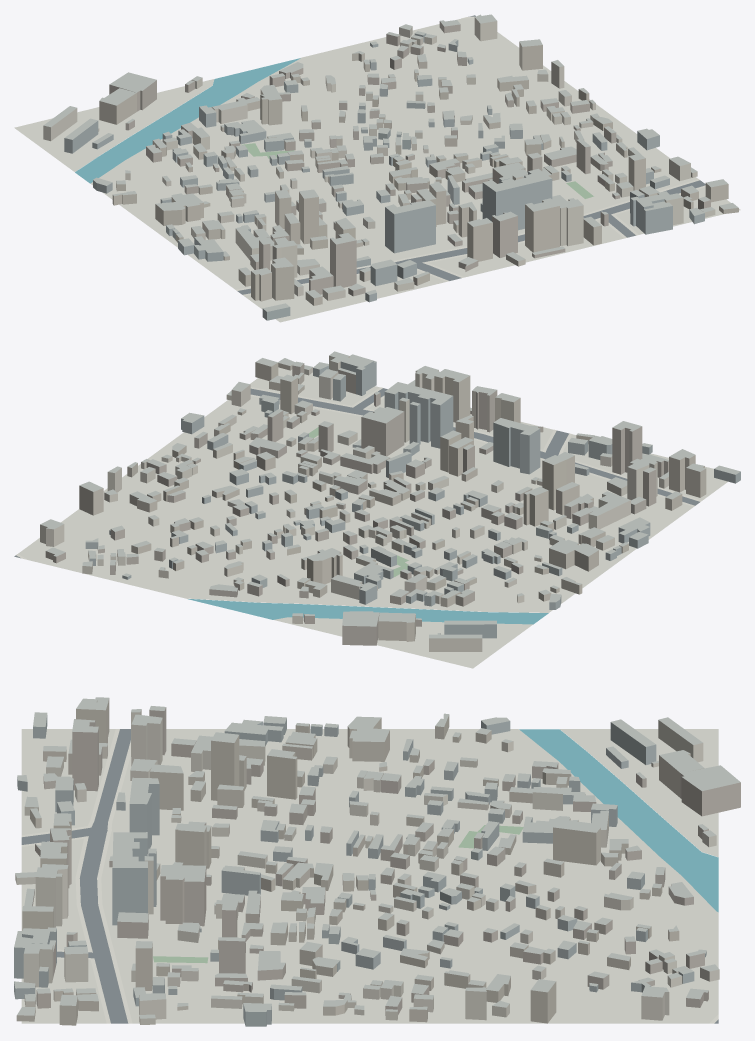
3 renders of one model, top to bottom at view 1: azimuth 30°, elevation 25°; view 2: azimuth 150°, elevation 25°; view 3: azimuth 270°, elevation 25°, orthographic. The views are drawn at different scales.
Visible parts, largest first — view 1: city; view 2: city; view 3: city.
Boxes of the visible parts, <box> form: city: <box>14,14,740,322</box>; city: <box>14,351,740,668</box>; city: <box>14,697,740,1026</box>.
Size of the model in its own units: 514 by 47.38 by 521.
